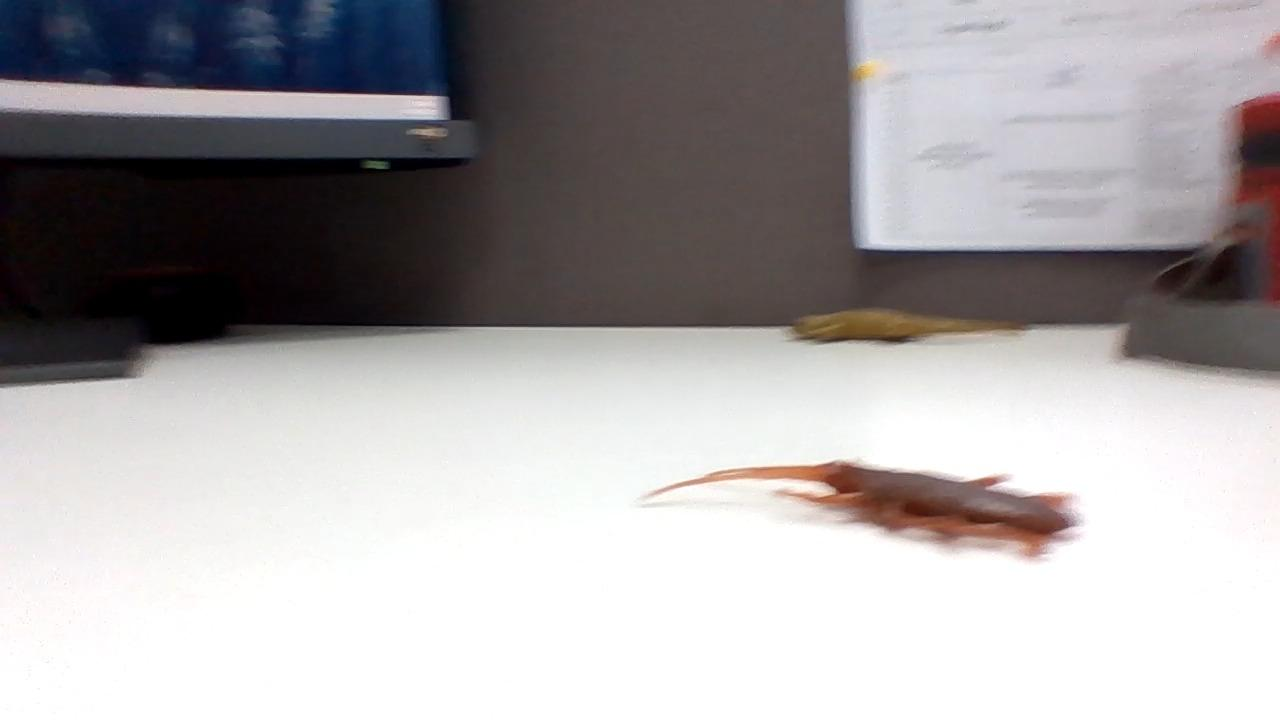cockroach: (645, 449, 1076, 562)
lizard: (790, 301, 1034, 345)
